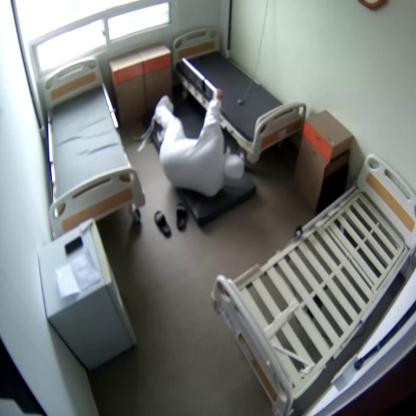Bed: (173, 27, 306, 163)
Person: (155, 89, 243, 196)
